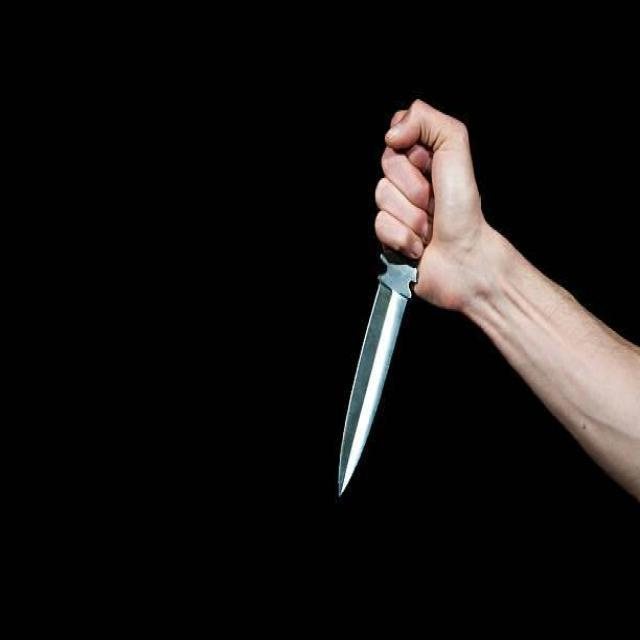faca: (332, 61, 471, 542)
